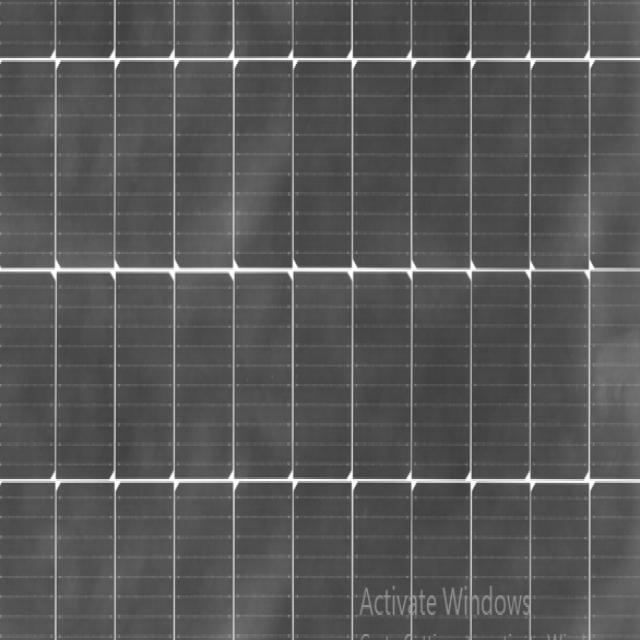CORRECT: (287, 2, 640, 524), (0, 0, 270, 640)
